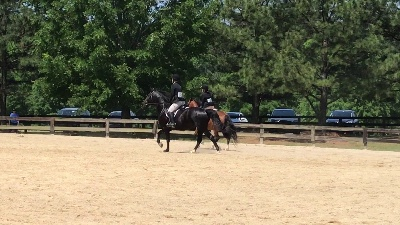jetta: (138, 85, 222, 154)
